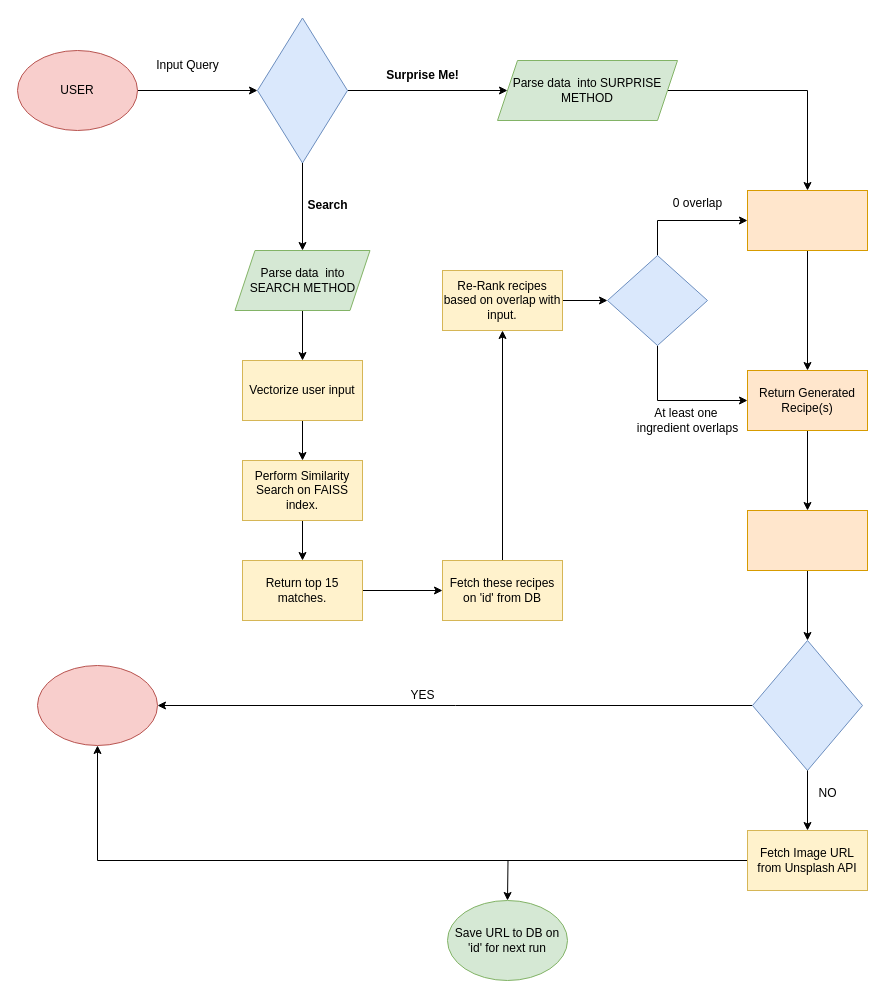
This 885x998 diagram has some shape labels left out. Each missing label, with the centre of its shape:
"Clean the Recipe and restructure JSON." goes at (x=807, y=540).
"Display Recipe on UI" goes at (x=97, y=705).
"How many ingredients match?" goes at (x=657, y=300).
"Is the image URL present?" goes at (x=807, y=705).
"Run the local LLM with user input" goes at (x=807, y=220).
"User presses a button" goes at (x=302, y=90).
